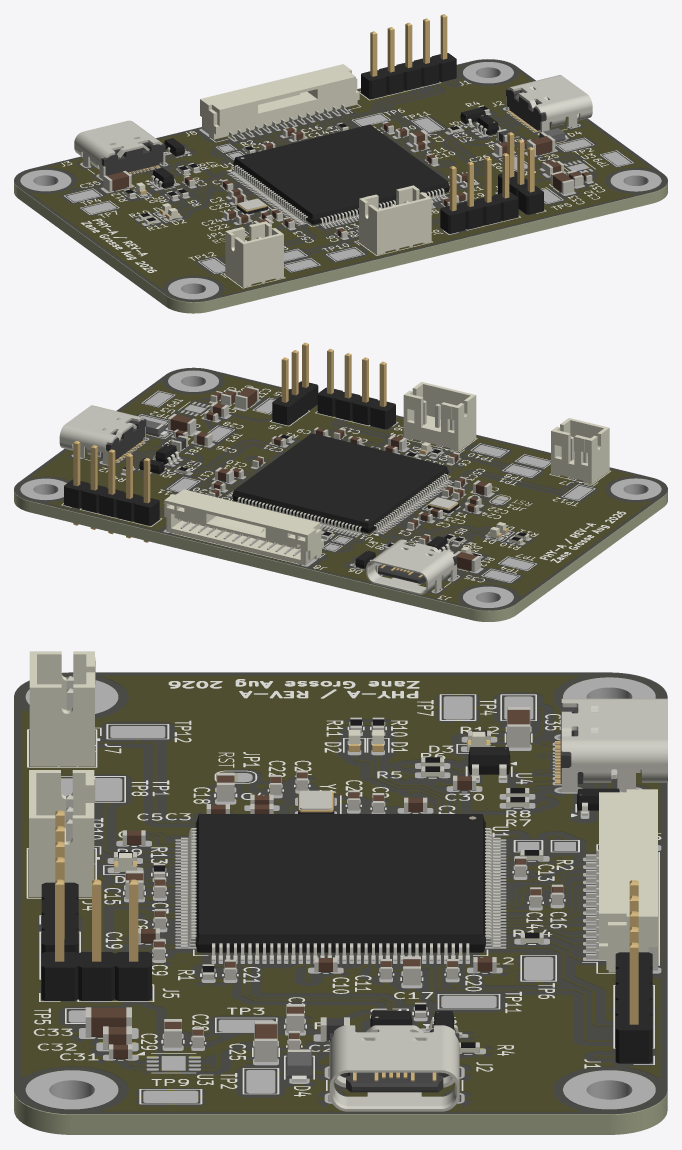
File: usb-interface.glb
The picture shows the model from 3 angles, top to bottom: view 1: azimuth 30°, elevation 25°; view 2: azimuth 150°, elevation 25°; view 3: azimuth 270°, elevation 25°; orthographic projection. The views are drawn at different scales.
Parts seen in each view (by area): view 1: Untitled_soldermask, Untitled_copper, Untitled_PCB, U1, Untitled_pad, J8, Untitled_silkscreen, J1, J4, J3, J2, J6 (+3 smaller); view 2: Untitled_soldermask, Untitled_copper, Untitled_PCB, U1, Untitled_pad, J8, Untitled_silkscreen, J1, J4, J3, J2, J6 (+3 smaller); view 3: Untitled_soldermask, Untitled_copper, Untitled_PCB, U1, Untitled_pad, Untitled_silkscreen, J2, J8, J3, J5, J7, J4 (+8 smaller).
Part boxes in pixels (x1=…): Untitled_soldermask: x1=14, y1=59, x2=667, y2=302; Untitled_copper: x1=31, y1=67, x2=650, y2=294; Untitled_PCB: x1=14, y1=60, x2=667, y2=313; U1: x1=230, y1=124, x2=449, y2=227; Untitled_pad: x1=20, y1=62, x2=661, y2=299; J8: x1=200, y1=64, x2=359, y2=140; Untitled_silkscreen: x1=61, y1=80, x2=633, y2=288; J1: x1=361, y1=14, x2=456, y2=98; J4: x1=359, y1=185, x2=431, y2=254; J3: x1=74, y1=120, x2=165, y2=179; J2: x1=506, y1=75, x2=592, y2=131; J6: x1=440, y1=153, x2=518, y2=233; Untitled_soldermask: x1=14, y1=367, x2=667, y2=610; Untitled_copper: x1=31, y1=375, x2=650, y2=603; Untitled_PCB: x1=14, y1=369, x2=667, y2=621; U1: x1=229, y1=433, x2=451, y2=535; Untitled_pad: x1=20, y1=370, x2=661, y2=607; J8: x1=164, y1=489, x2=323, y2=565; Untitled_silkscreen: x1=61, y1=385, x2=626, y2=600; J1: x1=64, y1=441, x2=159, y2=542; J4: x1=403, y1=381, x2=476, y2=451; J3: x1=366, y1=539, x2=457, y2=594; J2: x1=59, y1=405, x2=146, y2=464; J6: x1=317, y1=348, x2=395, y2=429; Untitled_soldermask: x1=14, y1=672, x2=667, y2=1114; Untitled_copper: x1=22, y1=676, x2=659, y2=1111; Untitled_PCB: x1=14, y1=673, x2=667, y2=1134; U1: x1=181, y1=814, x2=500, y2=960; Untitled_pad: x1=25, y1=677, x2=661, y2=1109; Untitled_silkscreen: x1=26, y1=679, x2=661, y2=1104; J2: x1=329, y1=1025, x2=459, y2=1111; J8: x1=586, y1=789, x2=657, y2=972; J3: x1=555, y1=698, x2=667, y2=792; J5: x1=41, y1=879, x2=151, y2=1000; J7: x1=29, y1=651, x2=95, y2=766; J4: x1=29, y1=770, x2=95, y2=897.
Size of the model in its own units: 0.072 by 0.0119 by 0.045.
